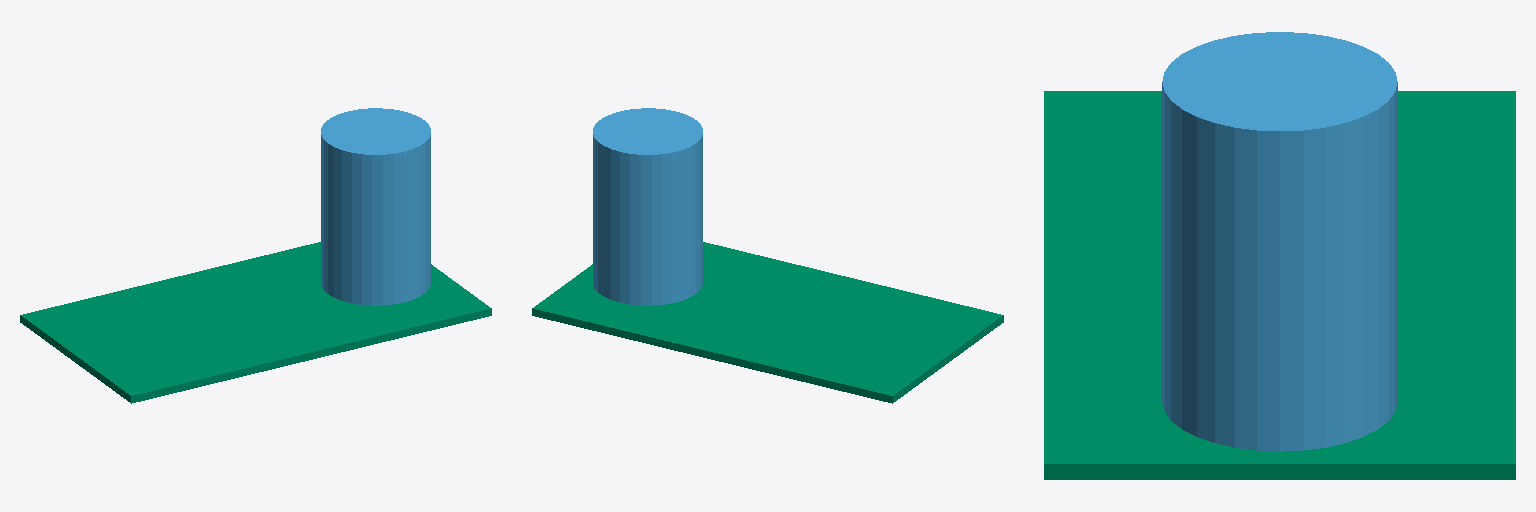
URDF robot description (myfirst):
<?xml version="1.0"?>
<robot name="myfirst">

  <link name="world"/>

  <joint name="world_to_cylinder" type="fixed">
    <origin xyz="0.5 0 0.3" rpy="0 0 0"/>
    <parent link="world"/>
    <child link="cylinder_link"/>
  </joint>

  <link name="cylinder_link">
    <visual>
      <geometry>
        <cylinder length="0.6" radius="0.2"/>
      </geometry>
    </visual>
  </link>

  <joint name="world_to_table" type="fixed">
    <origin xyz="0 0 -0.015" rpy="0 0 0"/>
    <parent link="world"/>
    <child link="table_link"/>
  </joint>

  <link name="table_link">
    <visual>
      <geometry>
        <box size="1.5 0.8 0.03"/>
      </geometry>
    </visual>
  </link>
</robot>

--- What the picture shows (computed from the rendered views, not written in the file) ---
3 views of the same robot in one strip: view 1: azimuth 30°, elevation 25°; view 2: azimuth 150°, elevation 25°; view 3: azimuth 270°, elevation 25° (orthographic).
Model myfirst with 3 links and 2 joints (2 fixed), rooted at world, posed all joints at 0.
Links seen in each view (by area): view 1: table_link, cylinder_link; view 2: table_link, cylinder_link; view 3: table_link, cylinder_link.
Link boxes in pixels (x1,y1,x2,y2): table_link: [20, 242, 491, 403]; cylinder_link: [321, 108, 430, 305]; table_link: [532, 242, 1003, 403]; cylinder_link: [593, 108, 702, 305]; table_link: [1044, 91, 1515, 479]; cylinder_link: [1162, 32, 1397, 451].
Size in the robot's own frame: 1.5 by 0.8 by 0.63 metres.
Geometry: primitives only (box / cylinder / sphere), no mesh files.